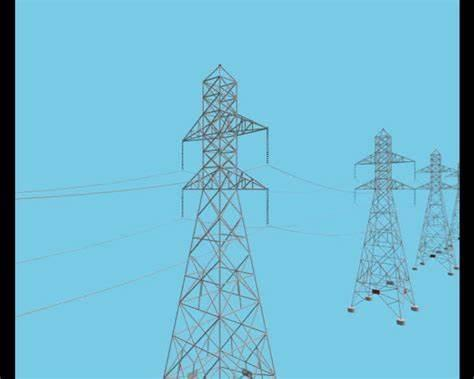power_tower: (158, 61, 290, 379), (349, 126, 423, 328), (412, 146, 466, 283)
